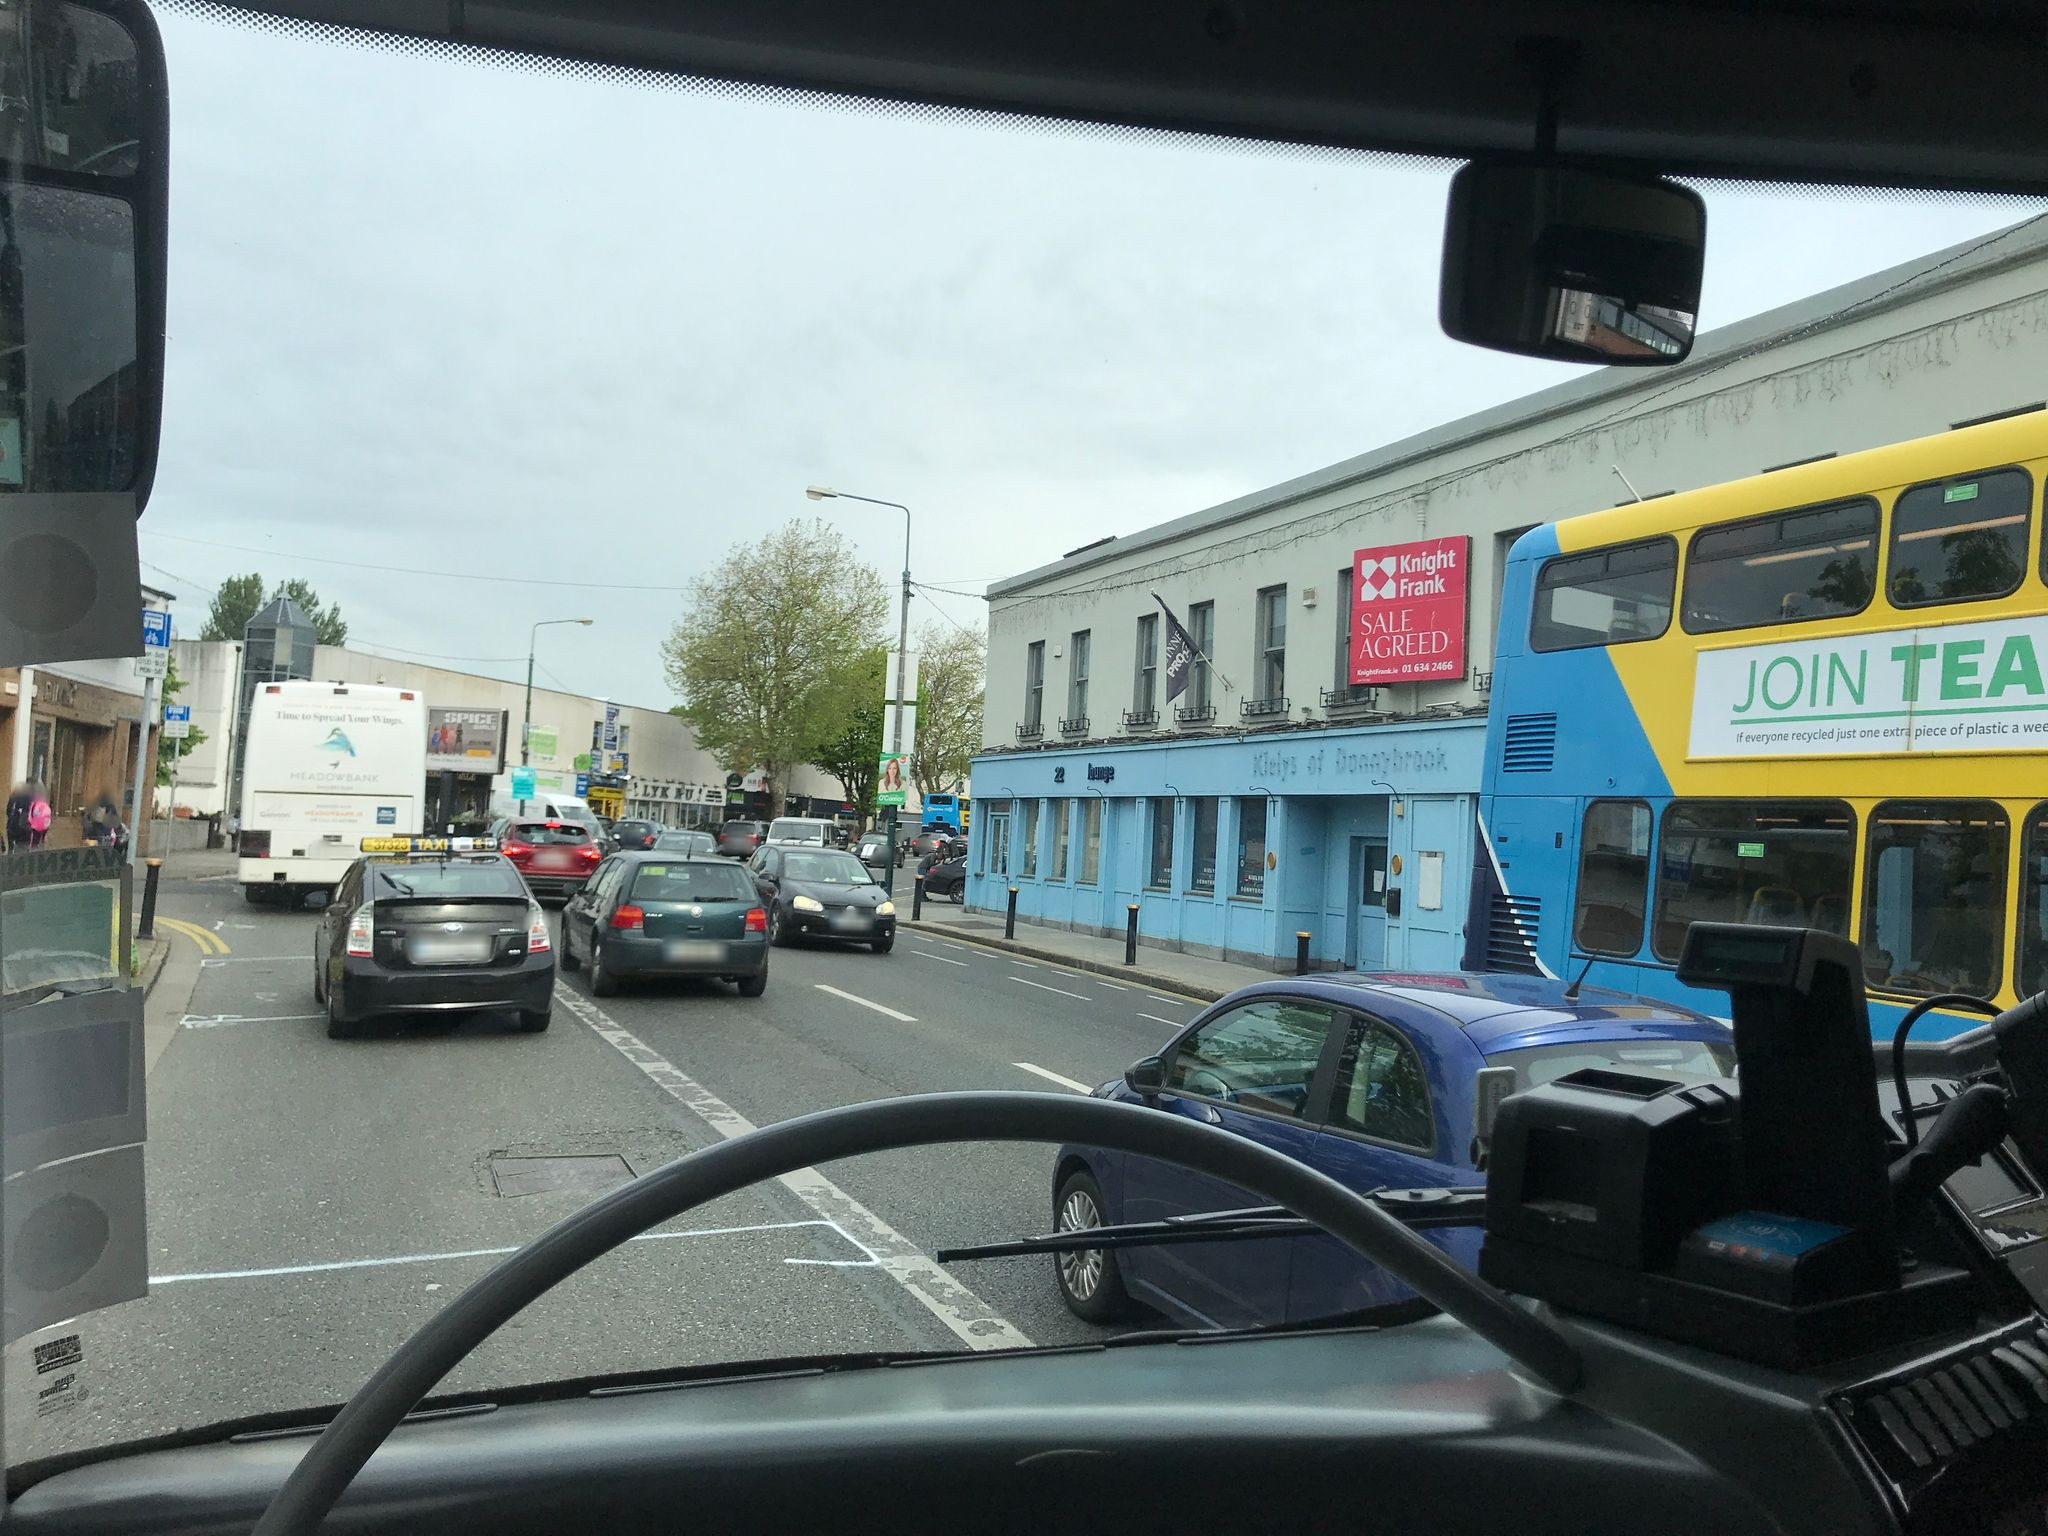property sign: (1326, 515, 1479, 700)
